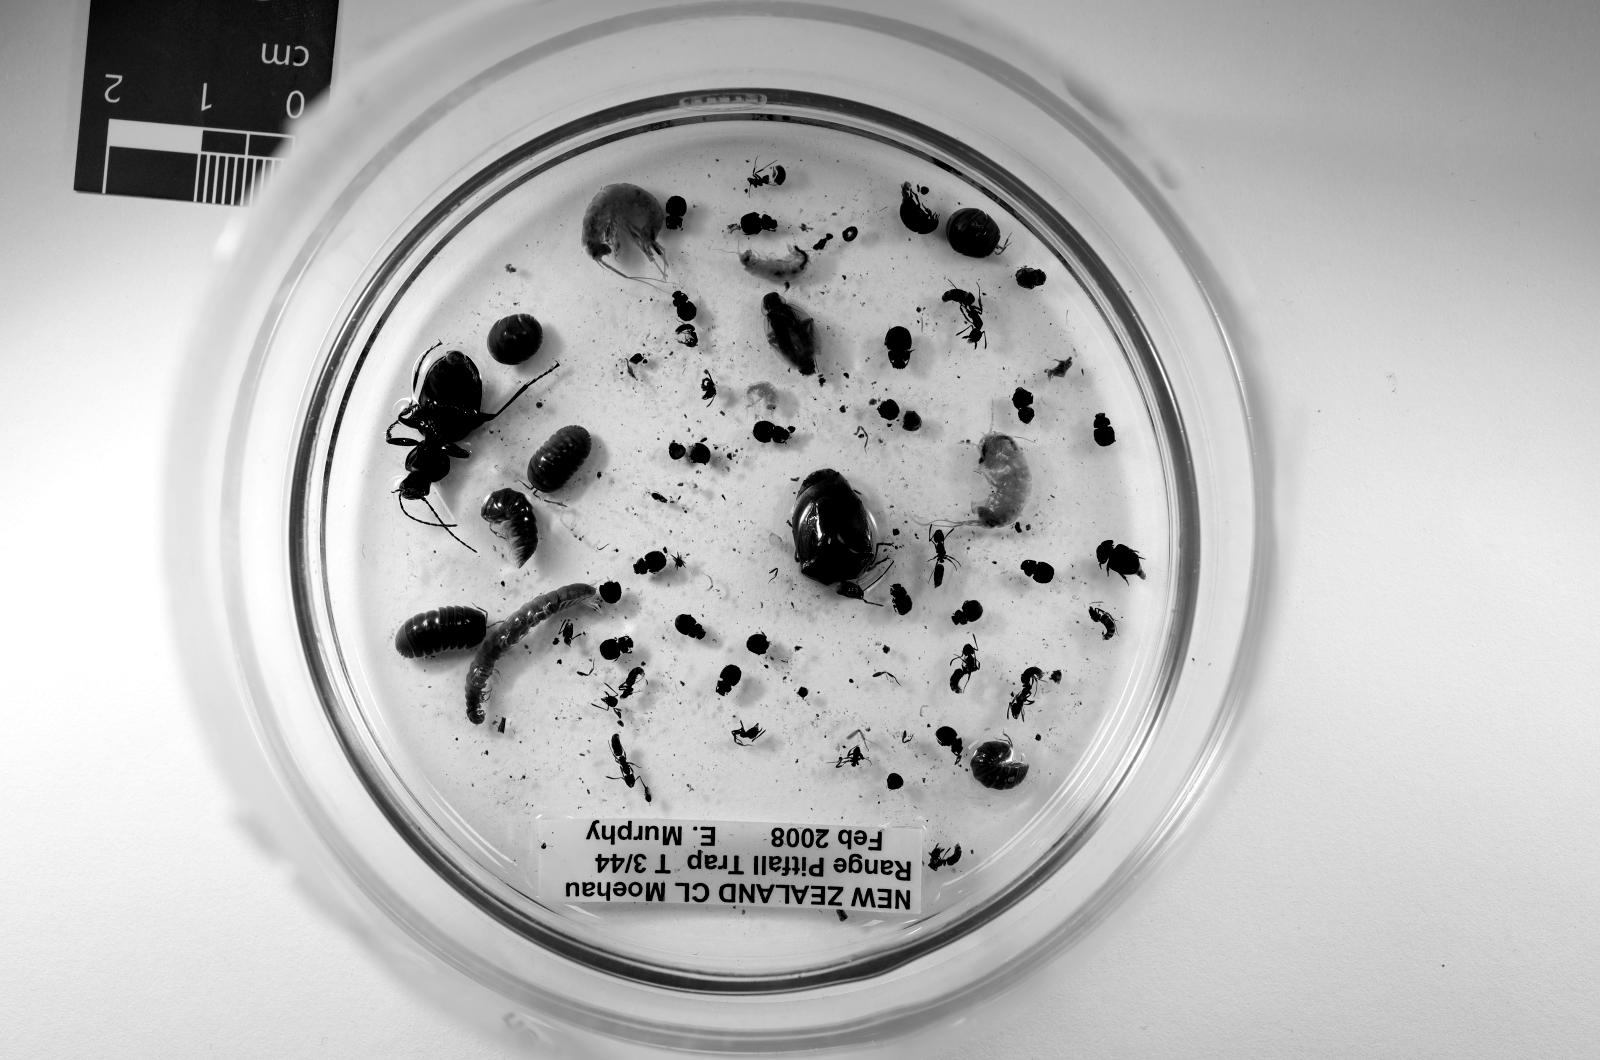amphipoda: (582, 183, 669, 279), (950, 432, 1031, 528), (738, 245, 809, 283), (747, 382, 778, 413)
blattodea: (763, 292, 822, 376)
carabidae: (388, 351, 538, 541)
coleoptera: (900, 183, 938, 237), (1097, 541, 1144, 577), (885, 327, 913, 369), (934, 726, 963, 764), (753, 419, 793, 444), (738, 214, 778, 237), (600, 636, 634, 661), (950, 600, 984, 625), (1022, 558, 1054, 584), (1012, 388, 1035, 422), (715, 665, 740, 696), (675, 615, 706, 640), (672, 292, 697, 323), (1094, 413, 1115, 447), (666, 195, 687, 230), (634, 552, 666, 575), (890, 584, 913, 615)
diplopoda: (466, 584, 600, 724)
formicidae: (944, 289, 984, 344), (1010, 667, 1044, 720), (950, 642, 982, 692), (609, 733, 637, 789), (931, 531, 957, 587), (928, 845, 963, 870), (675, 323, 697, 348)
isopoda: (394, 606, 487, 658), (481, 487, 538, 568), (529, 426, 590, 493), (487, 314, 544, 363), (972, 742, 1028, 791), (947, 208, 1000, 258)
pentatomidae: (791, 468, 879, 584)
